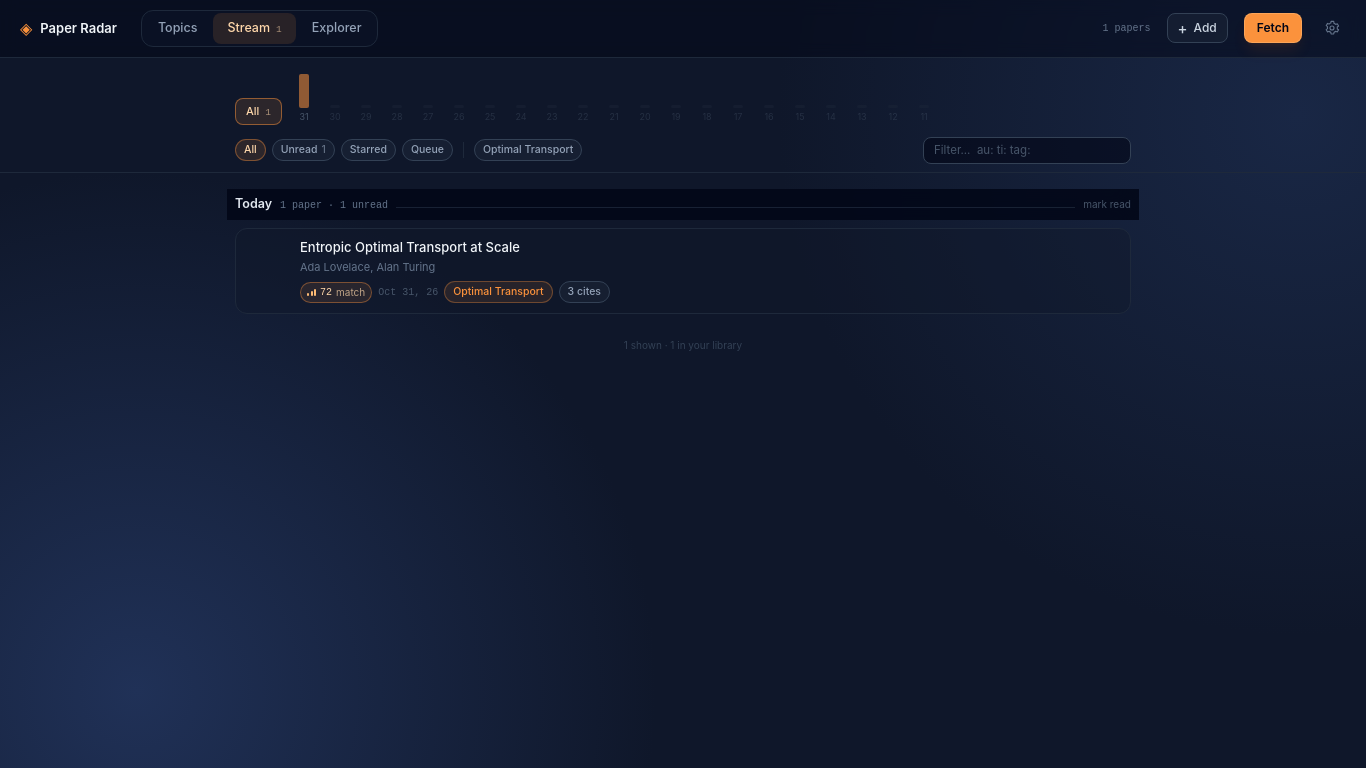
Test case: the Explorer is a folder tree with count chips, no papers in it
The image size is (1366, 768).
Click the tab with test id "tab-explorer": (337,28) [298,13,376,44]
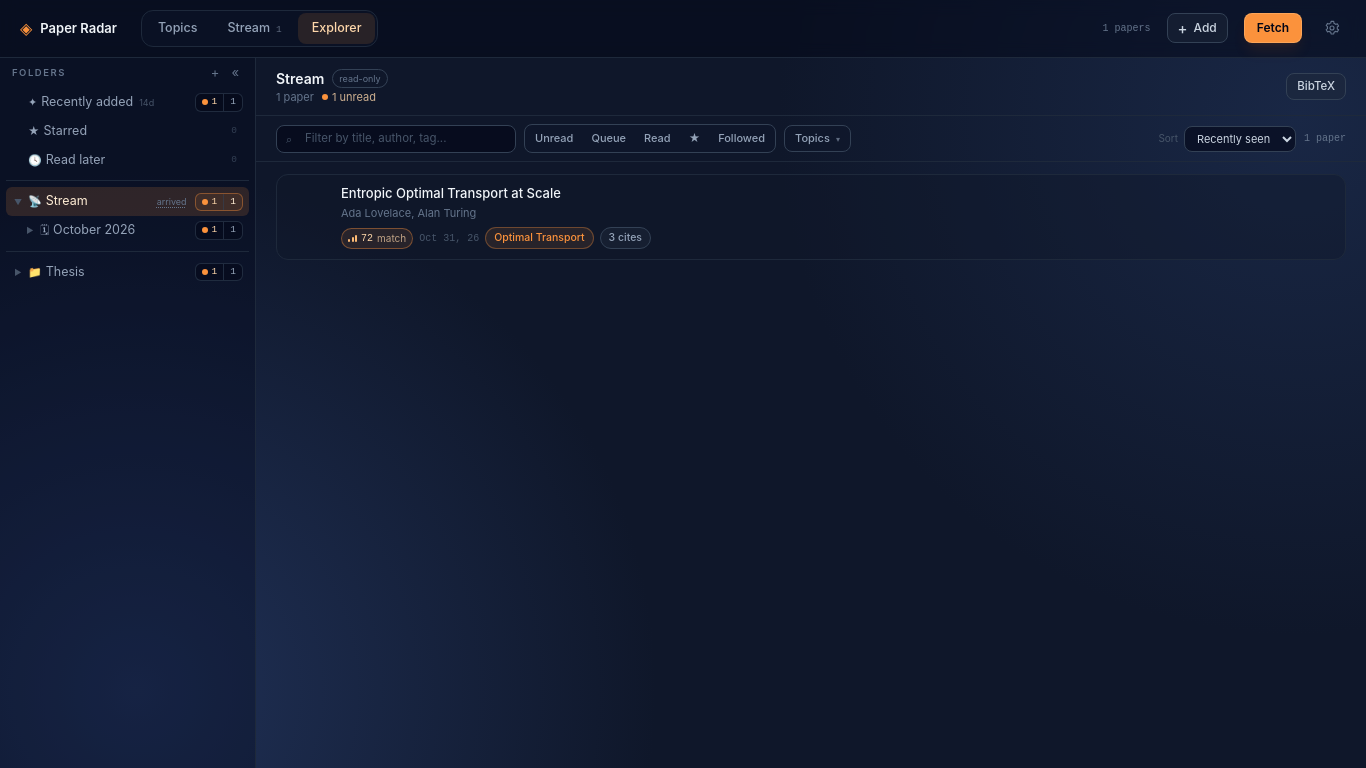
Expected: the element with test id "folder-node-f_root" shows "1", [212,266,217,277]
Click the element with test id "folder-node-f_root": (65,271) [6,258,249,287]
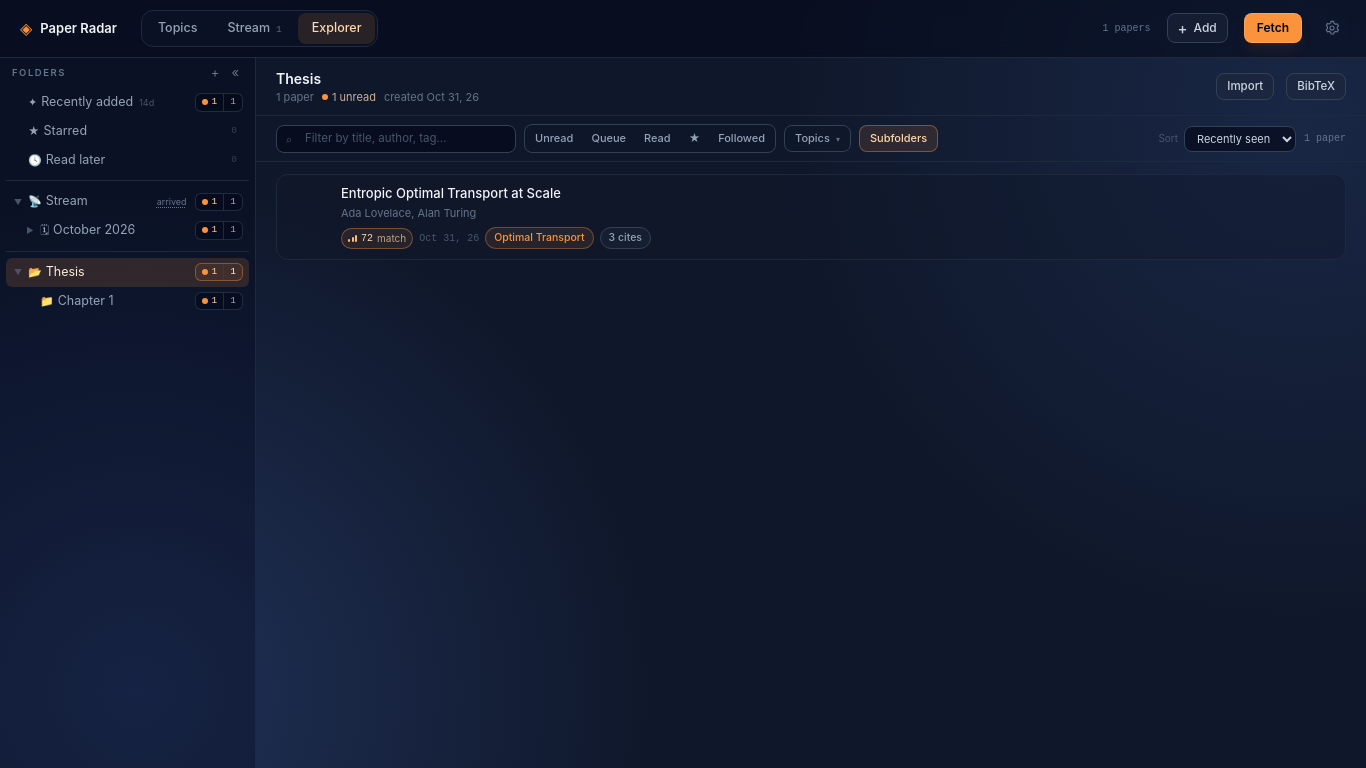
Expected: the element with test id "folder-node-f_kid" shows "Chapter 1", [58,292,114,308]
